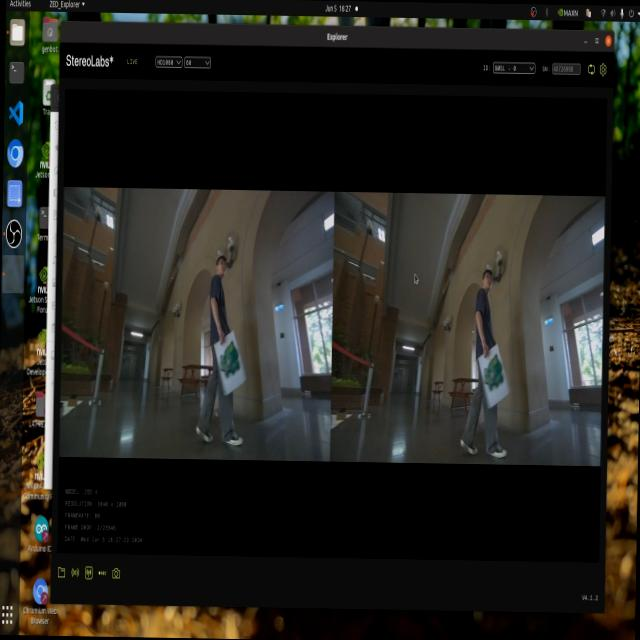green: (210, 343, 252, 388), (483, 351, 516, 402)
